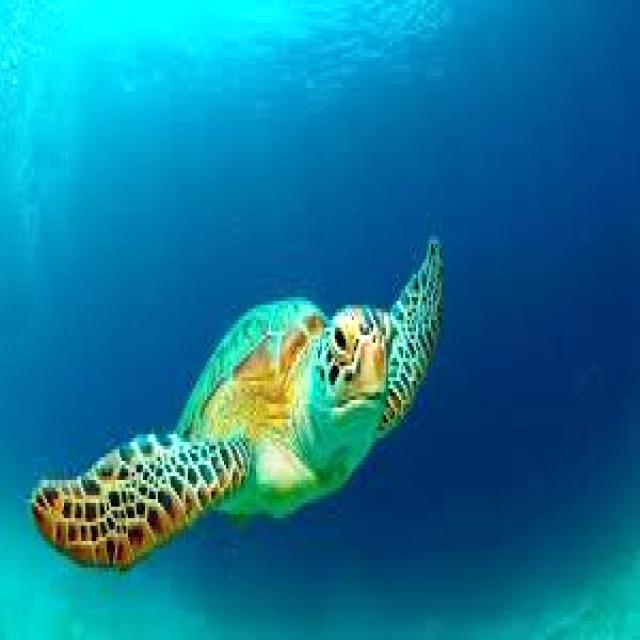Sea turtle: (25, 231, 454, 584)
